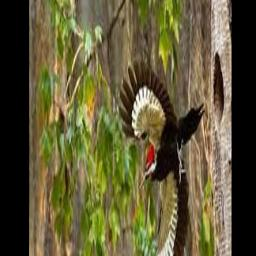Woodpecker: (116, 57, 205, 256)
